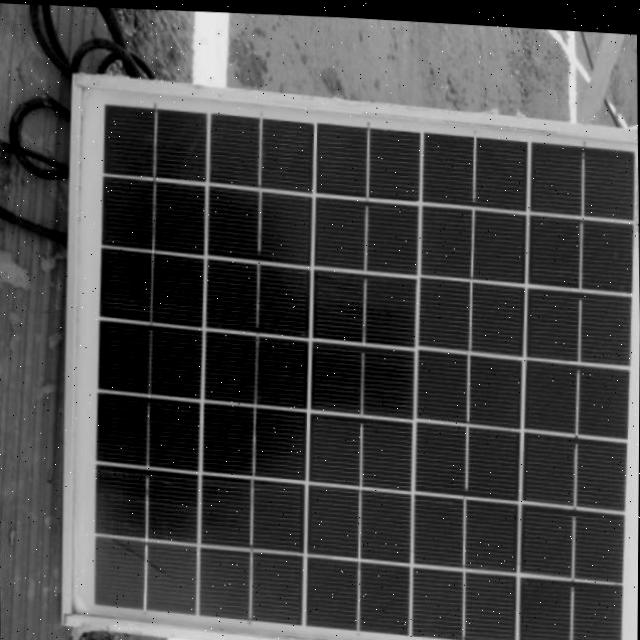Normal Solar Panel: (58, 62, 640, 640)
